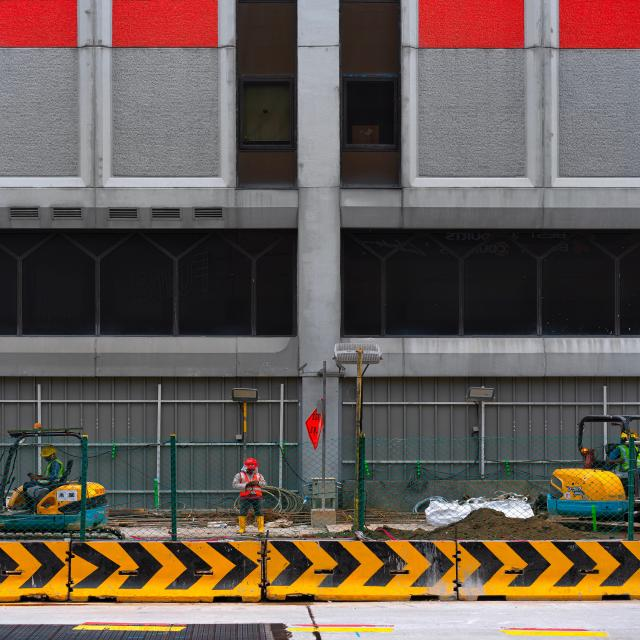helmet: (239, 458, 264, 472)
shoes: (225, 514, 258, 548), (253, 518, 272, 540)
vest: (237, 471, 267, 504)
